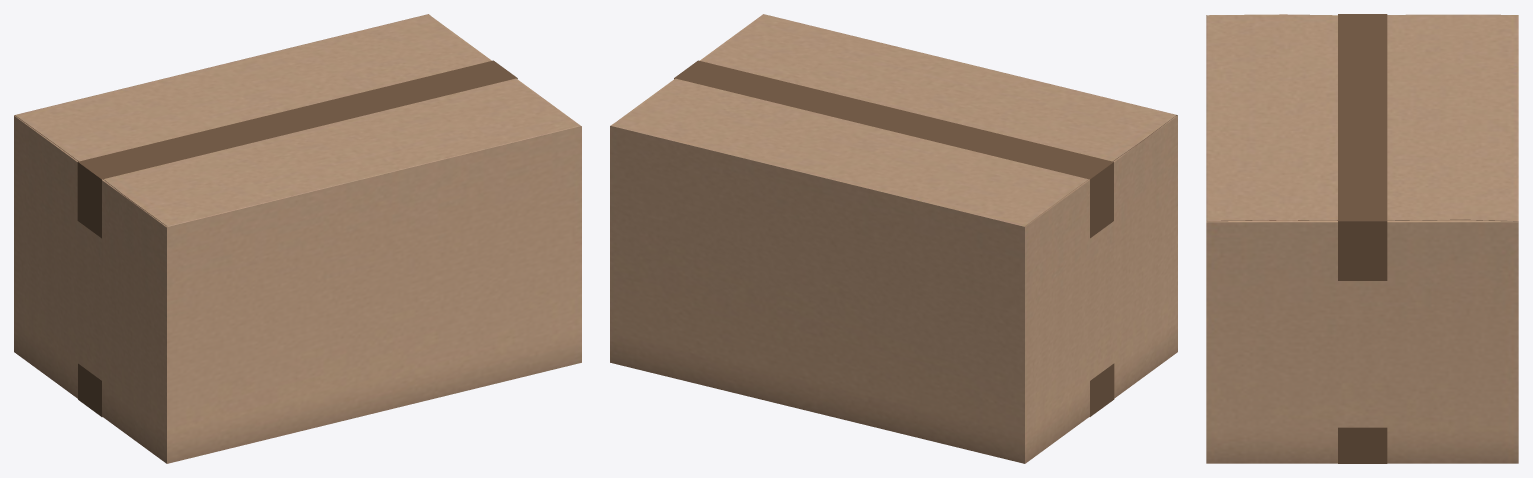
Rendered from cardboard-box.obj.
3 renders of one model, left to right at view 1: azimuth 30°, elevation 25°; view 2: azimuth 150°, elevation 25°; view 3: azimuth 270°, elevation 25°, orthographic. The views are drawn at different scales.
Visible parts, largest first — view 1: Cube_Cube.001, Plane, Plane.001; view 2: Cube_Cube.001, Plane, Plane.001; view 3: Cube_Cube.001, Plane, Plane.001.
Part boxes in pixels (box(x1,y1,x2,y2)): Cube_Cube.001: box(14, 14, 581, 463); Plane: box(77, 60, 517, 238); Plane.001: box(78, 363, 102, 417); Cube_Cube.001: box(610, 14, 1177, 463); Plane: box(674, 60, 1113, 238); Plane.001: box(1090, 363, 1114, 416); Cube_Cube.001: box(1206, 14, 1518, 463); Plane: box(1338, 14, 1387, 280); Plane.001: box(1338, 427, 1387, 463).
Size of the model in its own units: 55 by 30.04 by 35.
